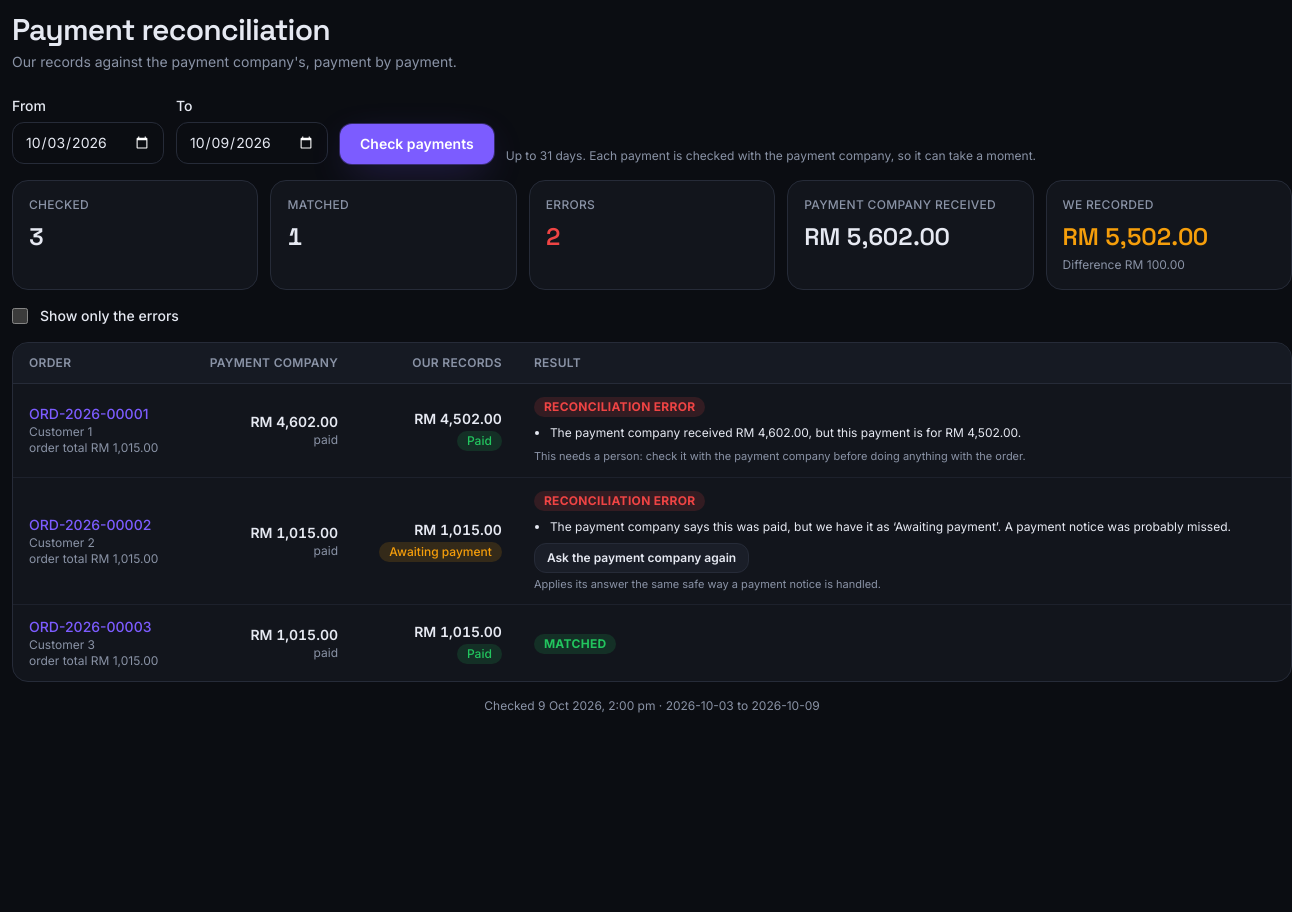
Scenario: payment reconciliation › explains when something still differs after asking again
The image size is (1292, 912).
Click the button "Ask the payment company again": (642, 558) [534,543,749,573]
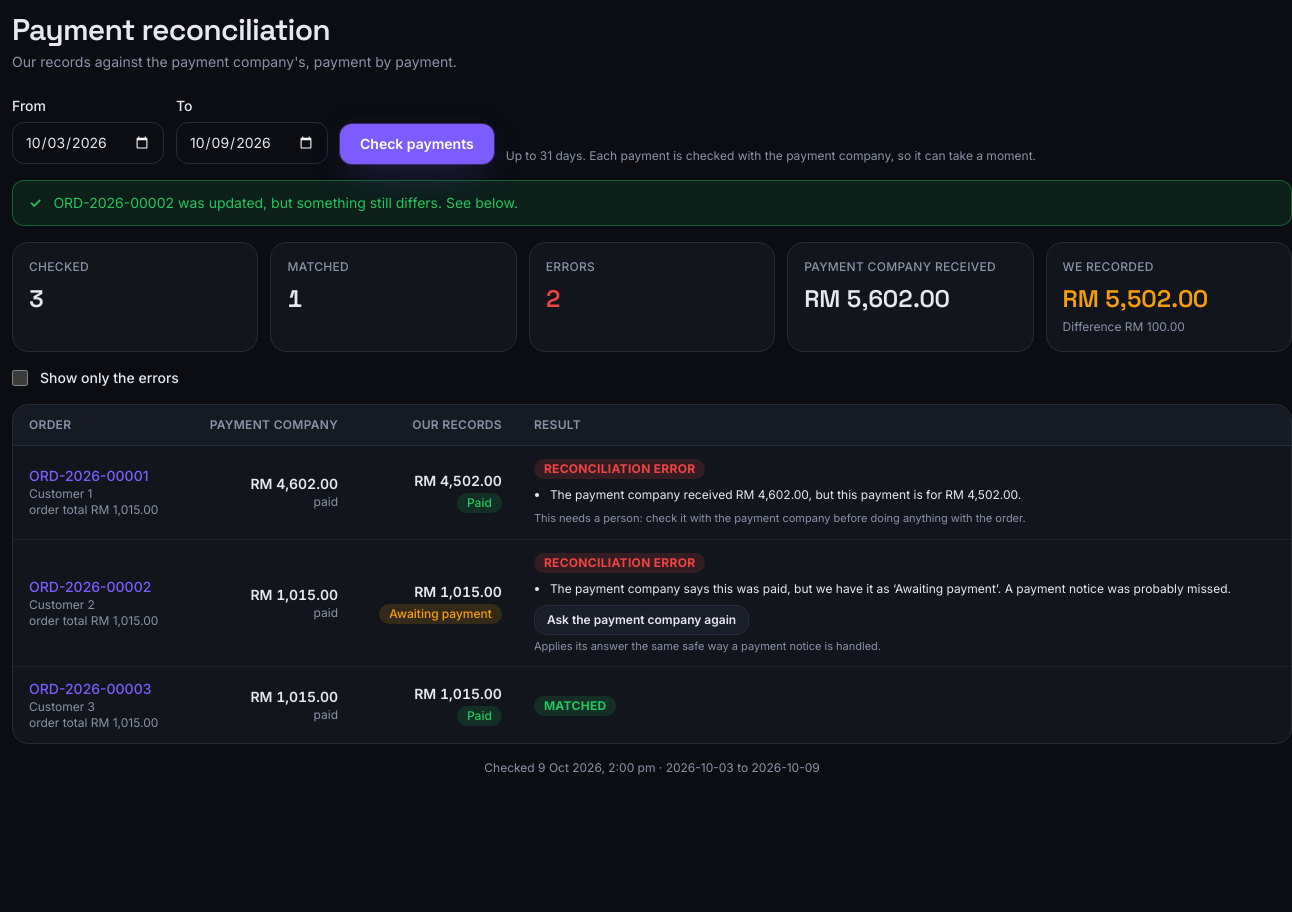
Expected: the text "was updated, but something still differs" is shown, [53,194,518,211]
